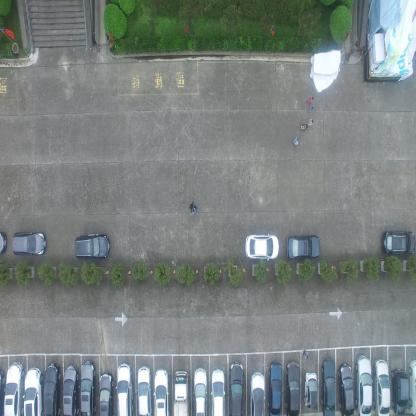car: (4, 358, 24, 415), (355, 353, 372, 415), (244, 232, 280, 260), (74, 233, 112, 259), (23, 364, 42, 416), (382, 228, 416, 256), (285, 233, 321, 259), (116, 363, 134, 415), (320, 358, 336, 416), (43, 362, 60, 416), (374, 358, 390, 415), (11, 230, 46, 256), (267, 359, 283, 415), (80, 359, 96, 415), (391, 366, 409, 415), (228, 361, 244, 416), (62, 364, 79, 415), (338, 362, 354, 415), (136, 365, 152, 415), (286, 359, 300, 415), (192, 366, 208, 415), (154, 366, 170, 415), (172, 370, 189, 416), (211, 366, 226, 415), (249, 371, 265, 415), (98, 370, 113, 416), (304, 369, 318, 409), (408, 358, 416, 415), (0, 367, 5, 415), (0, 229, 7, 256)
